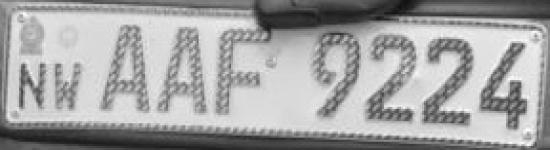2: (361, 32, 419, 129), (423, 32, 476, 133)
4: (480, 31, 534, 136)
9: (306, 25, 362, 121)
A: (96, 19, 154, 119), (156, 20, 210, 118)
F: (210, 22, 277, 122)
N: (12, 58, 51, 112)
W: (52, 59, 84, 113)
